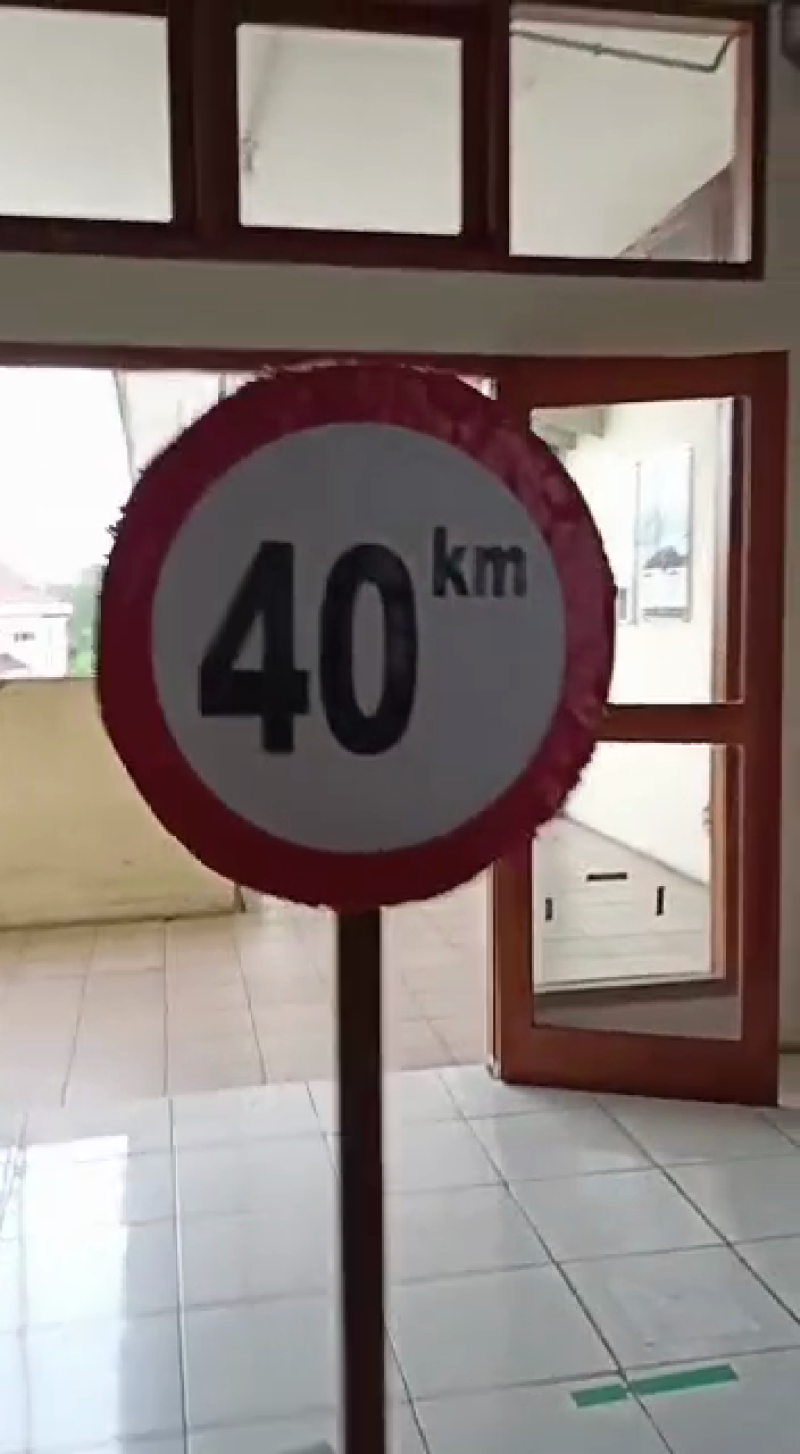batas maksimal 40kmperjam: (61, 314, 633, 935)
